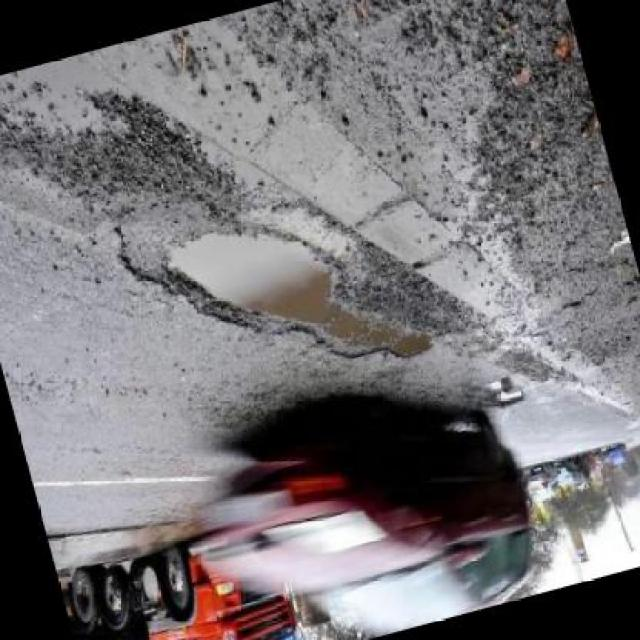pothole1: (150, 180, 442, 423), (482, 375, 530, 416)
